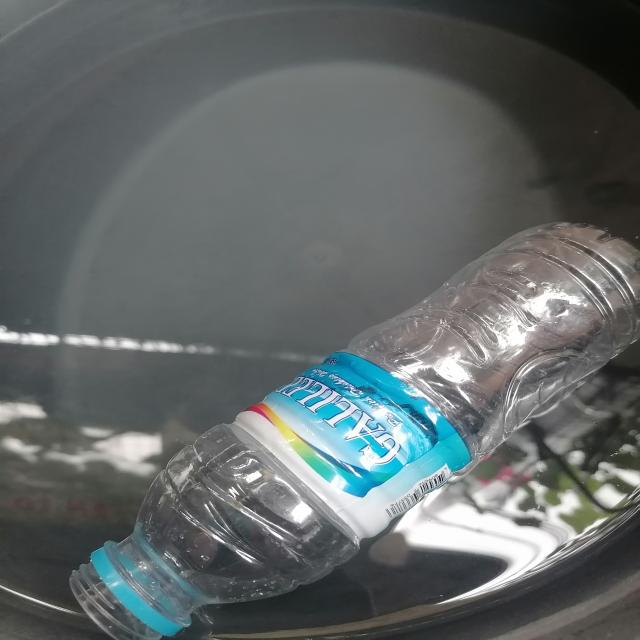Plastic Bottle: (70, 223, 640, 640)
